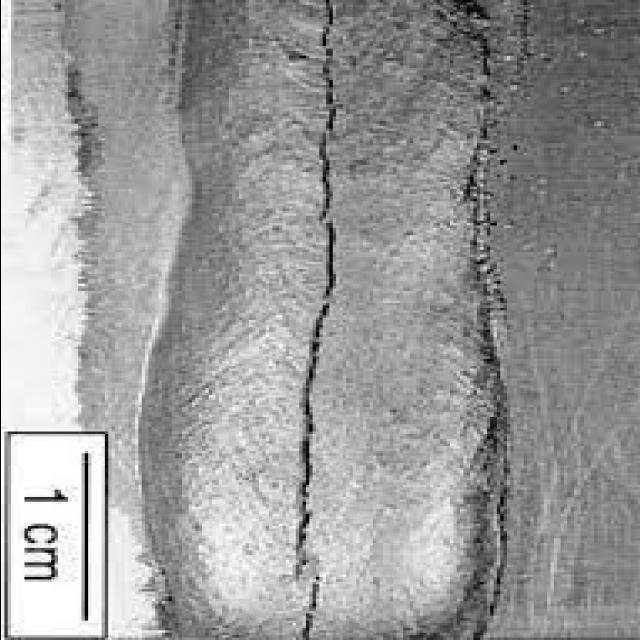defect: (281, 1, 344, 637)
